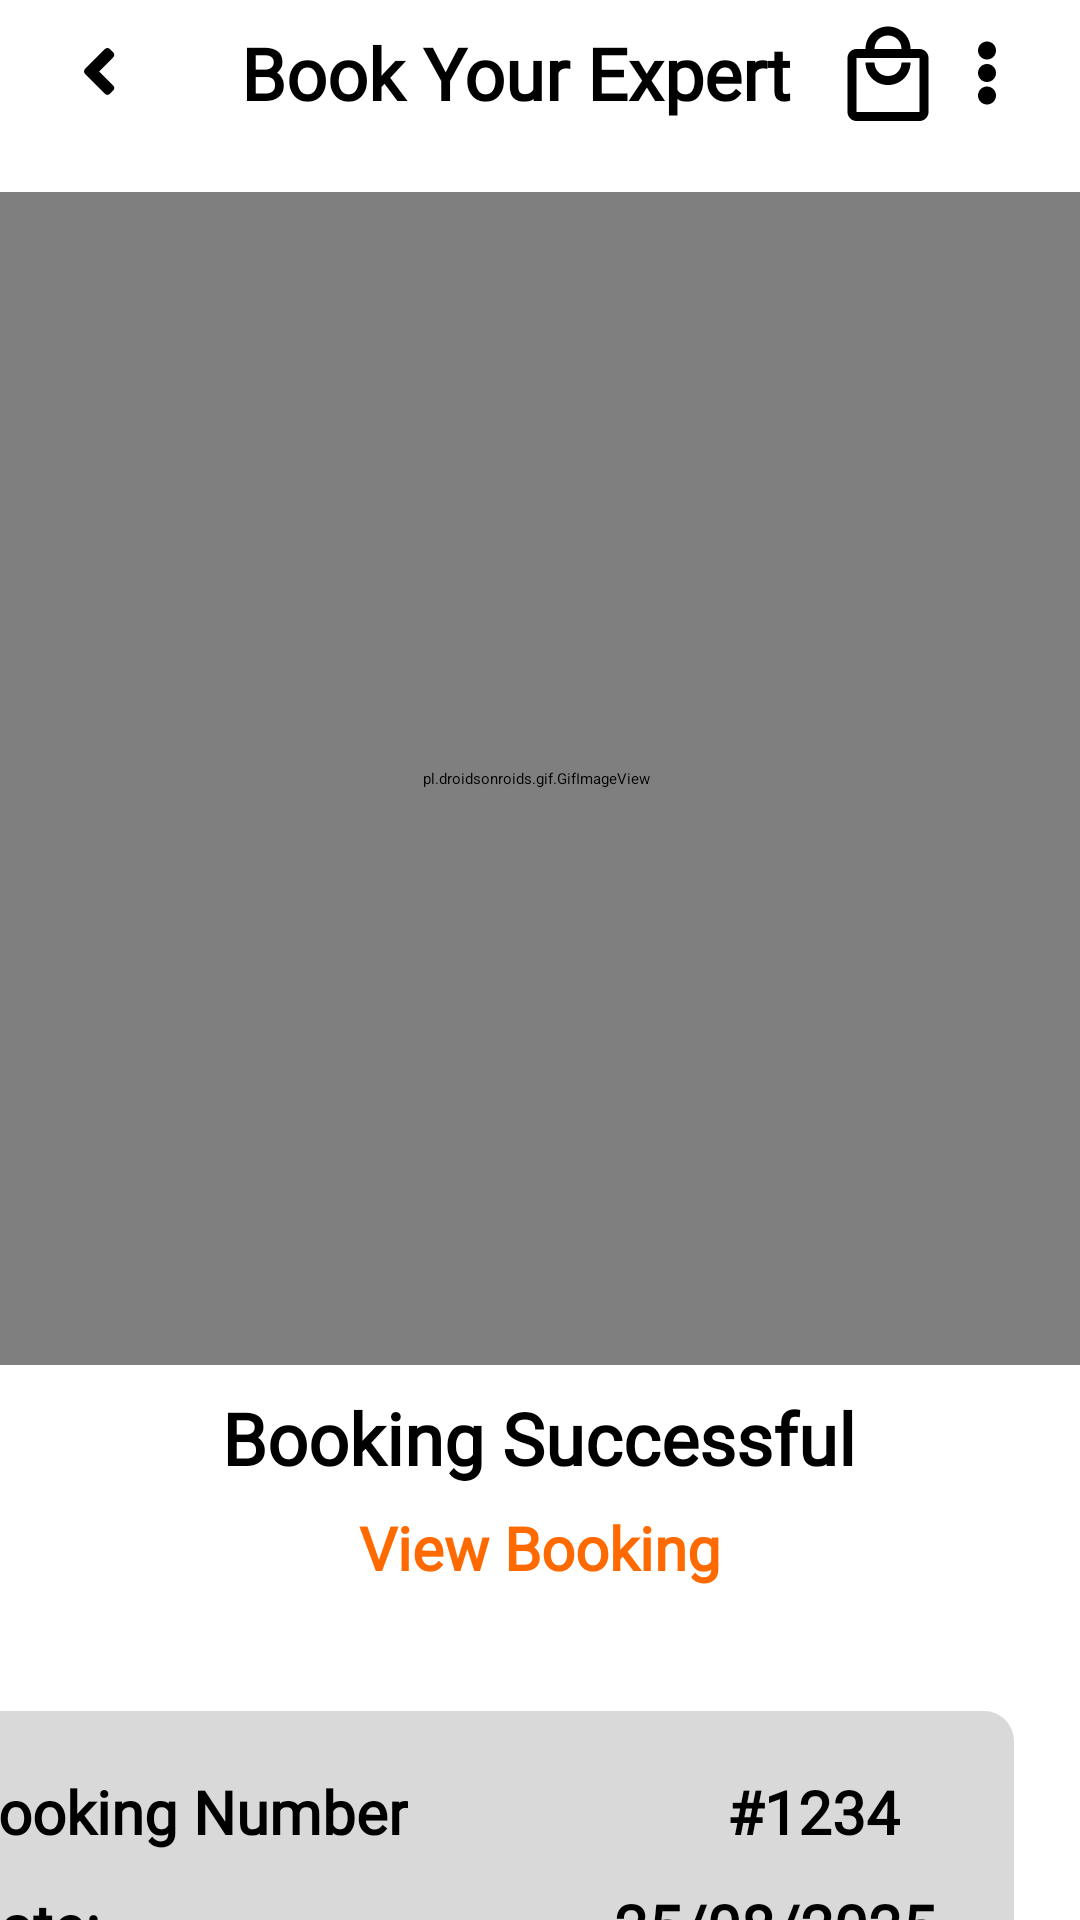

Screen size 1080x1920. Icon name, then its box in pixels as (x1, y1, x2, y2):
3dots: (978, 41, 996, 105)
back arrow head: (84, 48, 115, 95)
shopping bag: (847, 26, 929, 121)
